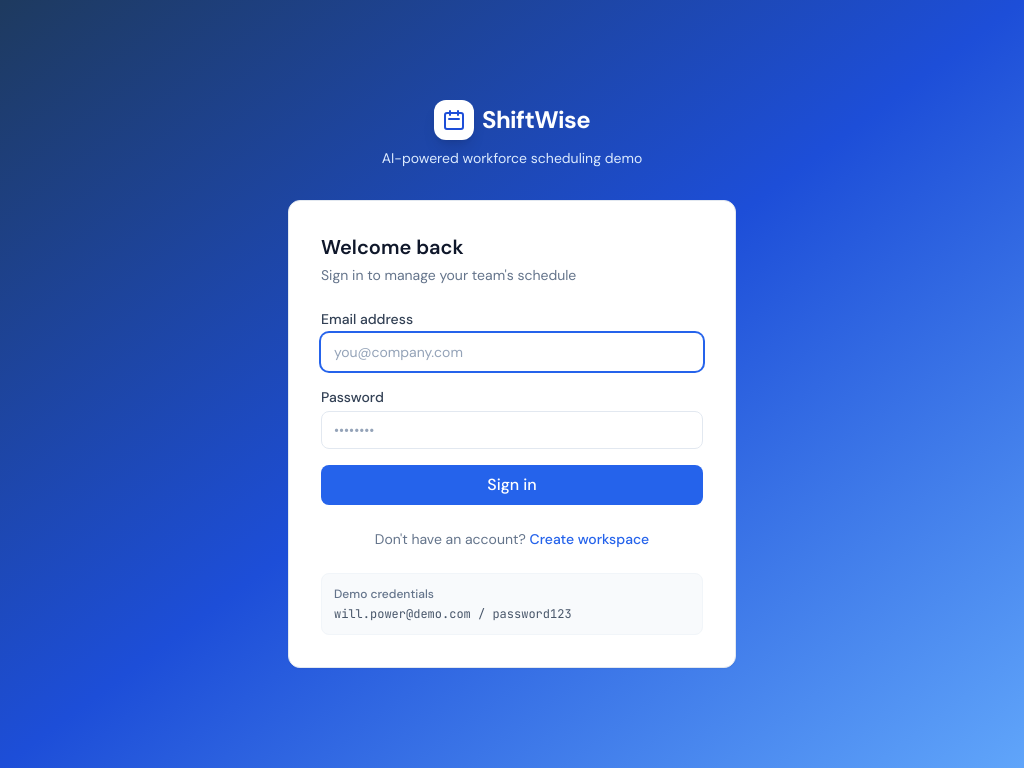
Scenario: LoginPage › shows loading state while submitting
Step 1. Type "will.power@demo.com" into the field with placeholder "you@company.com" → coordinates (512, 352), box x1=321 y1=333 x2=703 y2=371
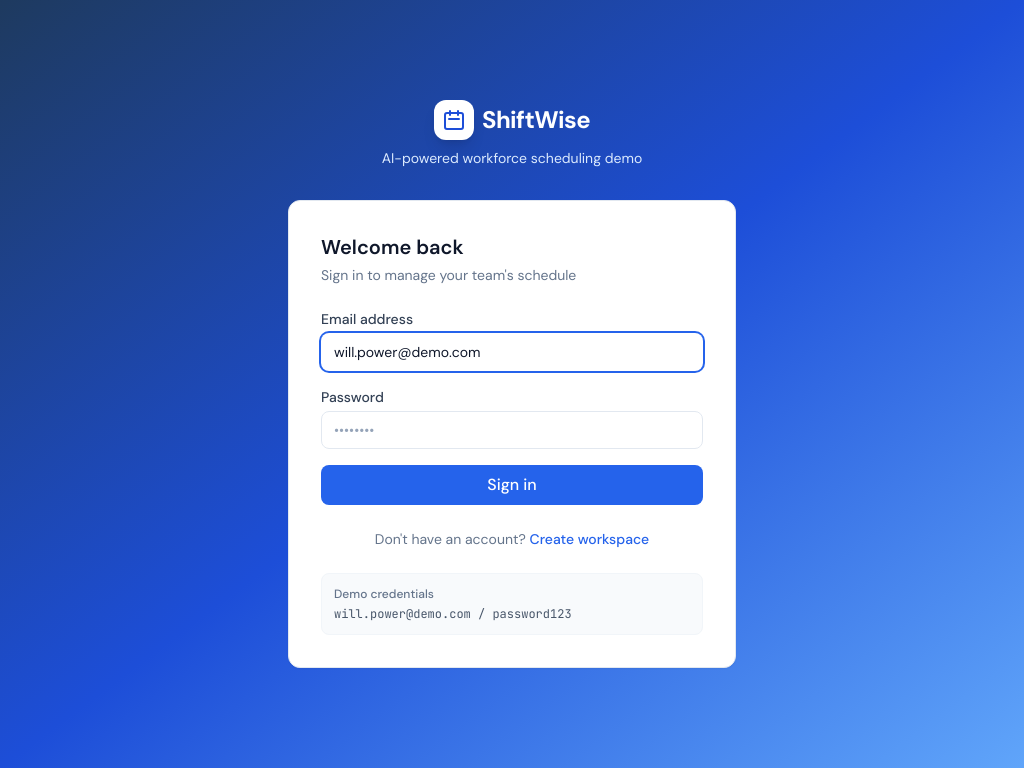
Step 2. Type "password123" into the password field with placeholder "••••••••" → coordinates (512, 430), box x1=321 y1=411 x2=703 y2=449
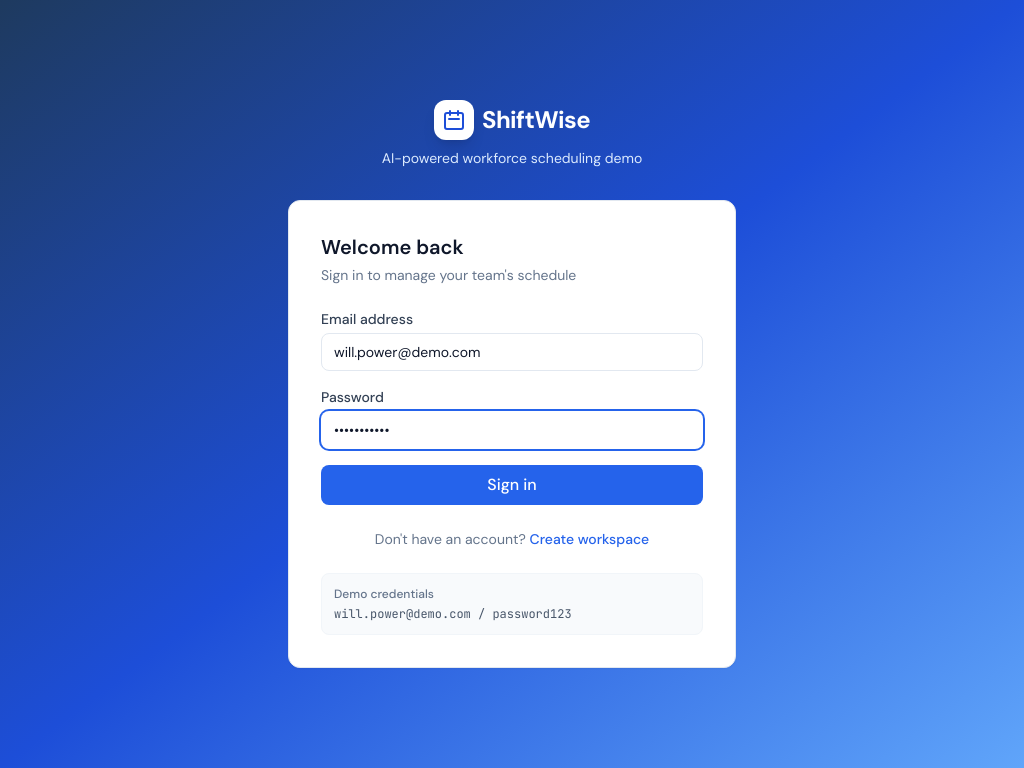
Step 3. Click the button "Sign in" → coordinates (512, 485), box x1=321 y1=465 x2=703 y2=505
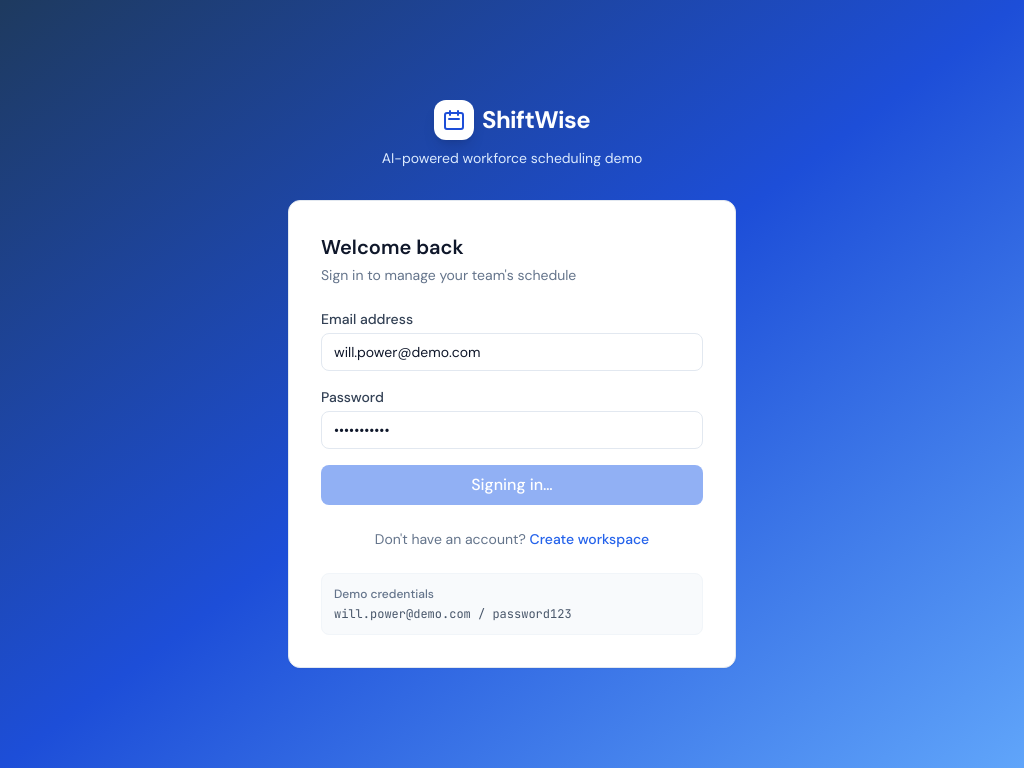
Now the button "Signing in…" is disabled, box x1=321 y1=465 x2=703 y2=505
